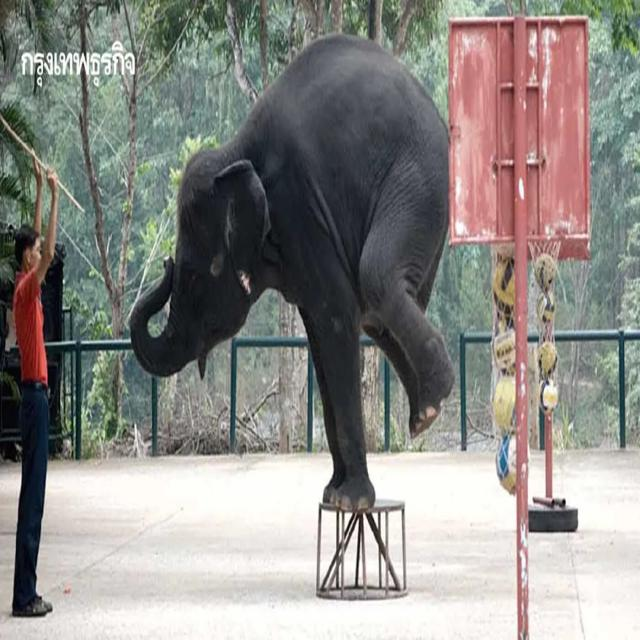Elephant: (128, 24, 468, 504)
